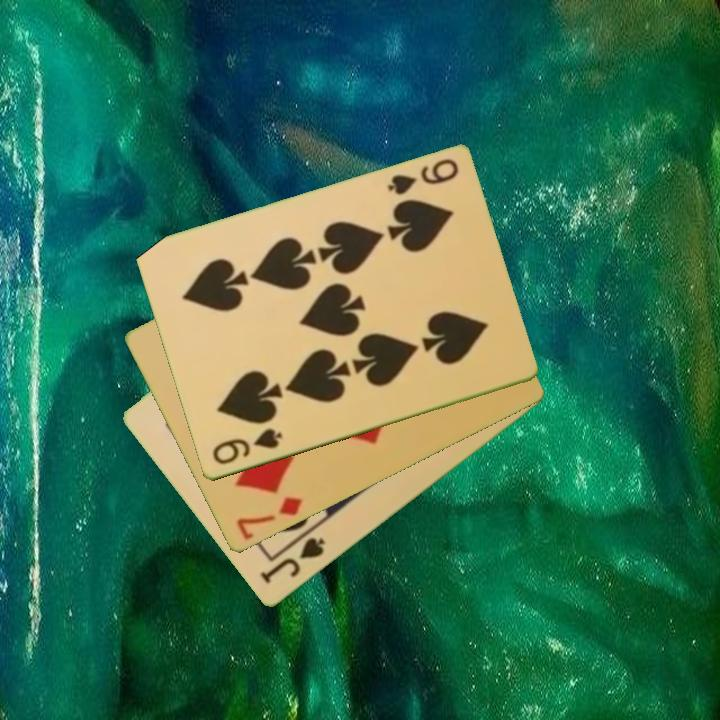7d: (232, 493, 306, 544)
9s: (208, 425, 285, 469), (384, 156, 461, 199)
Js: (256, 534, 329, 588)
